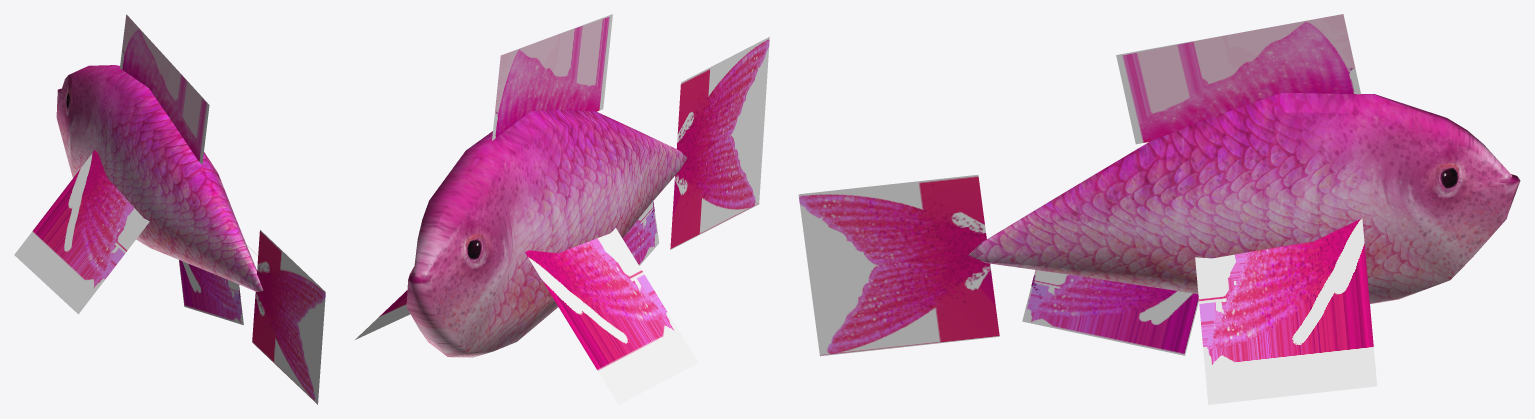
The model's file is Fish_pink.fbx.
The picture shows the model from 3 angles, left to right: view 1: azimuth 30°, elevation 25°; view 2: azimuth 150°, elevation 25°; view 3: azimuth 270°, elevation 25°; orthographic projection. The views are drawn at different scales.
Visible parts, largest first — view 1: pPlane7; view 2: pPlane7; view 3: pPlane7.
Part boxes in pixels (x1=…): pPlane7: x1=14, y1=14, x2=325, y2=404; pPlane7: x1=355, y1=14, x2=769, y2=404; pPlane7: x1=798, y1=14, x2=1520, y2=404.
Bounding box in the file's own units: 2.45 × 2.99 × 5.71.
